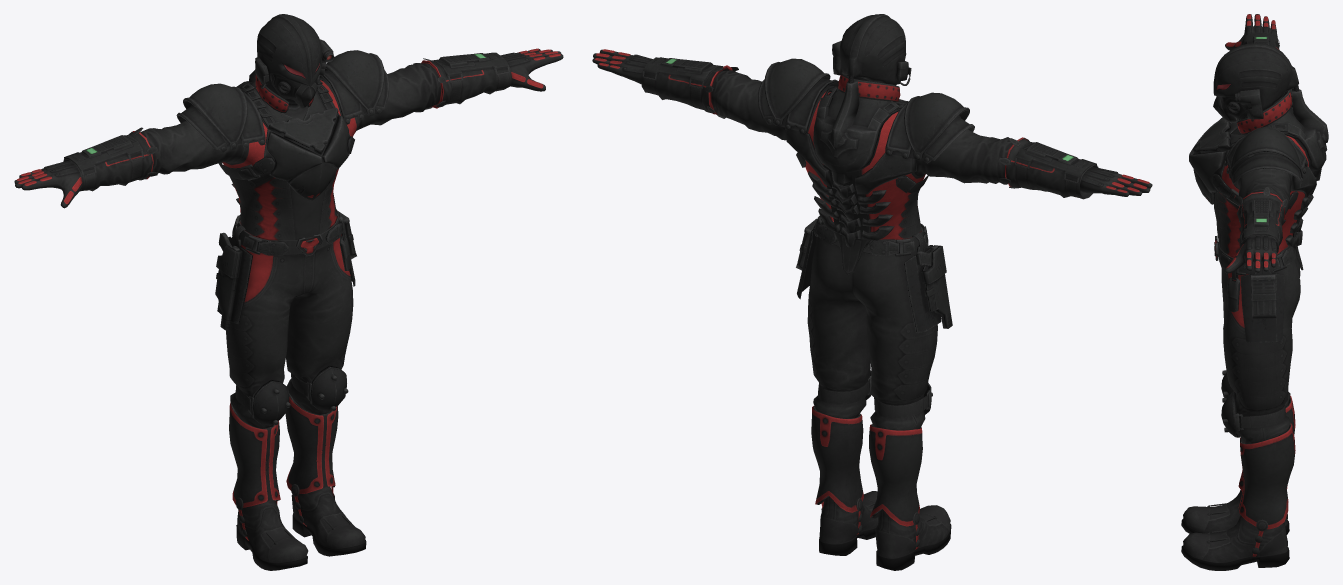
File: soldier.obj
3 views of the same model, side by side, from view 1: azimuth 30°, elevation 25°; view 2: azimuth 150°, elevation 25°; view 3: azimuth 270°, elevation 25° (orthographic). The views are drawn at different scales.
Parts seen in each view (by area): view 1: Object_14, Object_16, Object_17, Object_20, Object_13, Object_31, Object_29, Object_27, Object_8, Object_15, Object_19; view 2: Object_14, Object_16, Object_17, Object_15, Object_31, Object_29, Object_13, Object_8, Object_20, Object_27, Object_19; view 3: Object_17, Object_14, Object_16, Object_13, Object_15, Object_20, Object_29, Object_11, Object_27, Object_10, Object_19, Object_22 (+1 smaller).
Part boxes in pixels (x1,y1,x2,y2): Object_14: (14, 48, 563, 240); Object_16: (226, 212, 353, 428); Object_17: (229, 393, 366, 570); Object_20: (236, 80, 354, 200); Object_13: (257, 14, 321, 109); Object_31: (176, 83, 265, 152); Object_29: (319, 50, 389, 124); Object_27: (235, 365, 346, 425); Object_8: (215, 226, 252, 330); Object_15: (63, 58, 510, 270); Object_19: (218, 75, 313, 179); Object_14: (592, 49, 1152, 274); Object_16: (807, 219, 937, 430); Object_17: (811, 406, 951, 570); Object_15: (642, 67, 1097, 256); Object_31: (885, 92, 974, 163); Object_29: (758, 58, 838, 135); Object_13: (840, 14, 906, 85); Object_8: (903, 233, 952, 333); Object_20: (796, 87, 915, 192); Object_27: (818, 370, 931, 418); Object_19: (838, 72, 928, 192); Object_17: (1181, 396, 1295, 570); Object_14: (1214, 14, 1313, 273); Object_16: (1218, 241, 1300, 443); Object_13: (1213, 43, 1298, 123); Object_15: (1214, 37, 1328, 312); Object_20: (1189, 102, 1305, 209); Object_29: (1224, 126, 1307, 184); Object_11: (1240, 262, 1284, 342); Object_27: (1221, 372, 1286, 437); Object_10: (1251, 273, 1276, 319); Object_19: (1237, 90, 1291, 208); Object_22: (1235, 89, 1263, 119).
Bounding box in the file's own units: 1.59 × 1.46 × 0.386.
